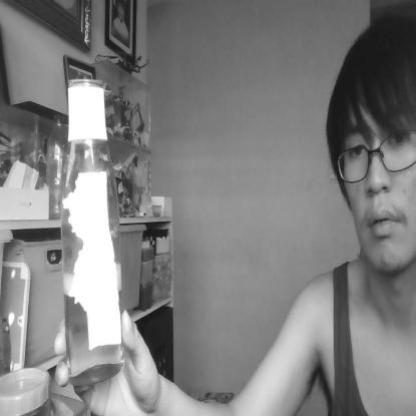Plastic Bottle: (55, 70, 125, 383)
